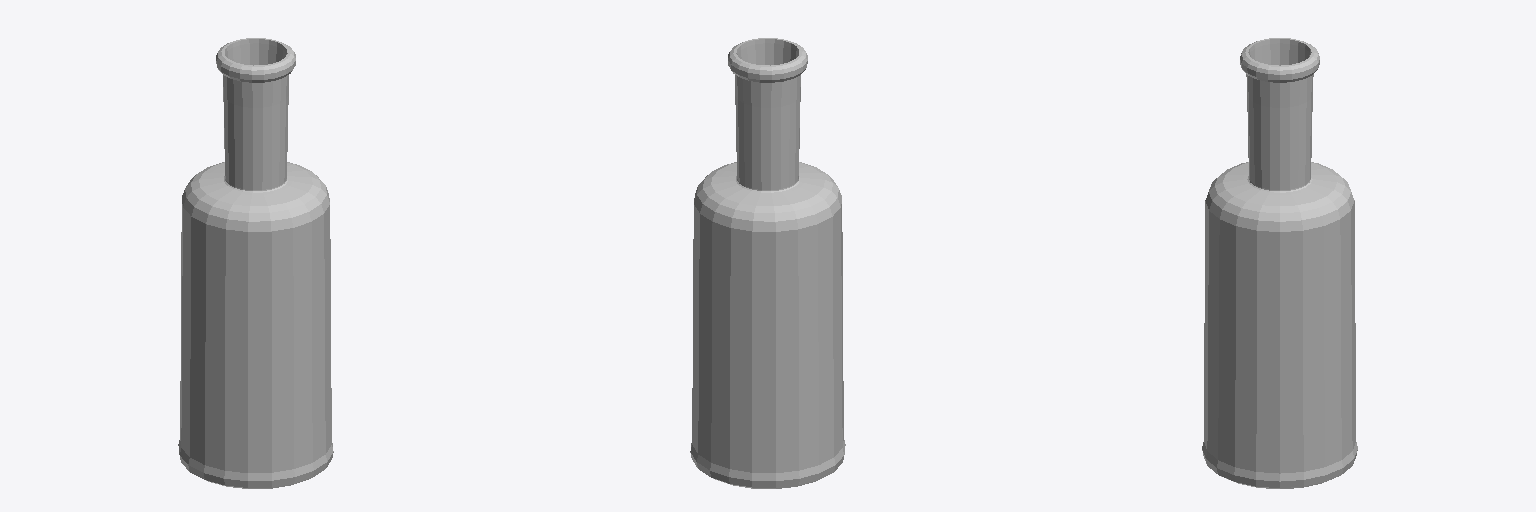
The model's file is bottlebig.obj.
3 renders of one model, left to right at view 1: azimuth 30°, elevation 25°; view 2: azimuth 150°, elevation 25°; view 3: azimuth 270°, elevation 25°, orthographic.
Visible parts, largest first — view 1: bottlebig:bottles_lppCylinder3; view 2: bottlebig:bottles_lppCylinder3; view 3: bottlebig:bottles_lppCylinder3.
Part boxes in pixels (left/top/right/bottom): bottlebig:bottles_lppCylinder3: left=178, top=38, right=333, bottom=488; bottlebig:bottles_lppCylinder3: left=690, top=38, right=845, bottom=488; bottlebig:bottles_lppCylinder3: left=1202, top=38, right=1357, bottom=488.
Size of the model in its own units: 1.61 by 4.63 by 1.61.